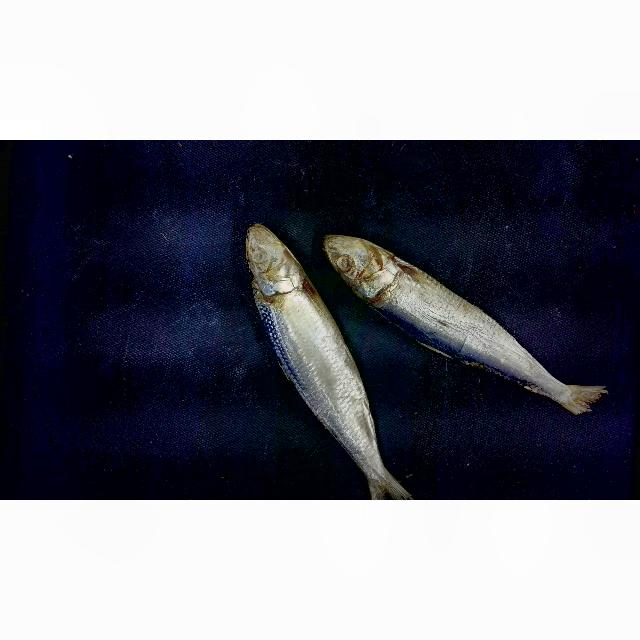Grade_A_Body: (257, 310, 389, 427), (412, 256, 523, 389)
Grade_A_Head: (320, 222, 402, 304), (230, 219, 316, 296)
Grade_A_Tail: (312, 433, 455, 500), (529, 338, 611, 430)
